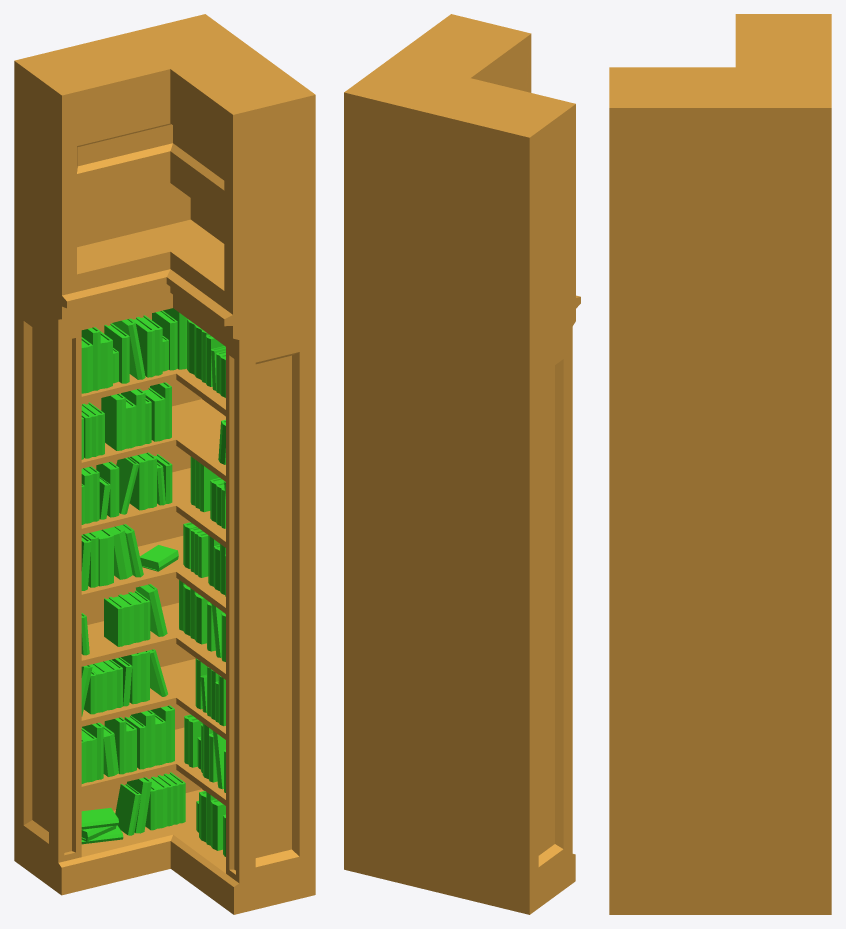
File: SM_Bookcase_Tall_Modular_Filled_Corner_Inner.fbx
The picture shows the model from 3 angles, left to right: view 1: azimuth 30°, elevation 25°; view 2: azimuth 150°, elevation 25°; view 3: azimuth 270°, elevation 25°; orthographic projection. The views are drawn at different scales.
Visible parts, largest first — view 1: bookcase-tall-modular-filled-corner-inner; view 2: bookcase-tall-modular-filled-corner-inner; view 3: bookcase-tall-modular-filled-corner-inner.
Part boxes in pixels (x1=…): bookcase-tall-modular-filled-corner-inner: x1=14, y1=14, x2=315, y2=914; bookcase-tall-modular-filled-corner-inner: x1=344, y1=14, x2=580, y2=914; bookcase-tall-modular-filled-corner-inner: x1=609, y1=14, x2=831, y2=914.
Size of the model in its own units: 1 by 4 by 1.
